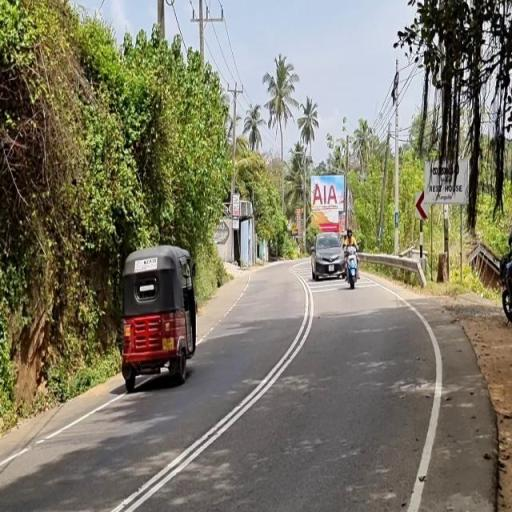double_white_line: (108, 269, 313, 512)
